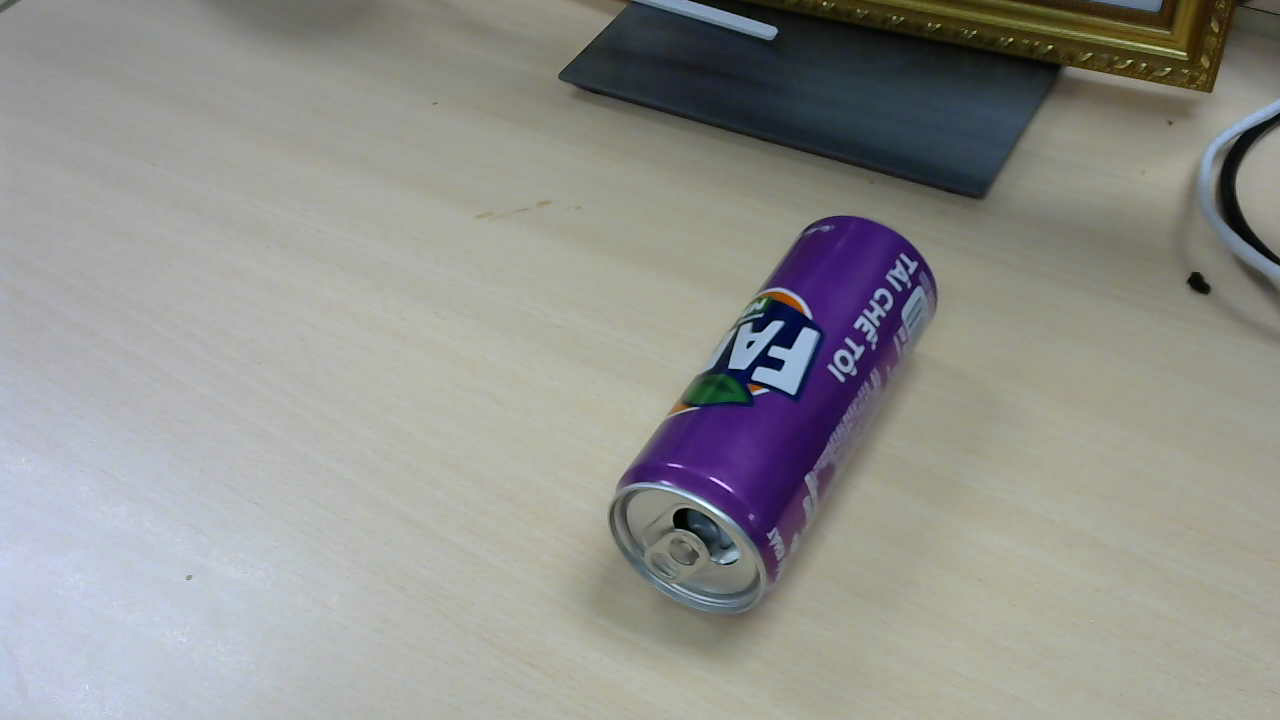Fanta: (612, 218, 946, 622)
